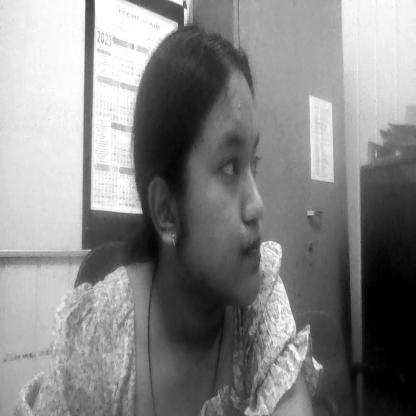Distracted: (182, 89, 272, 314)
